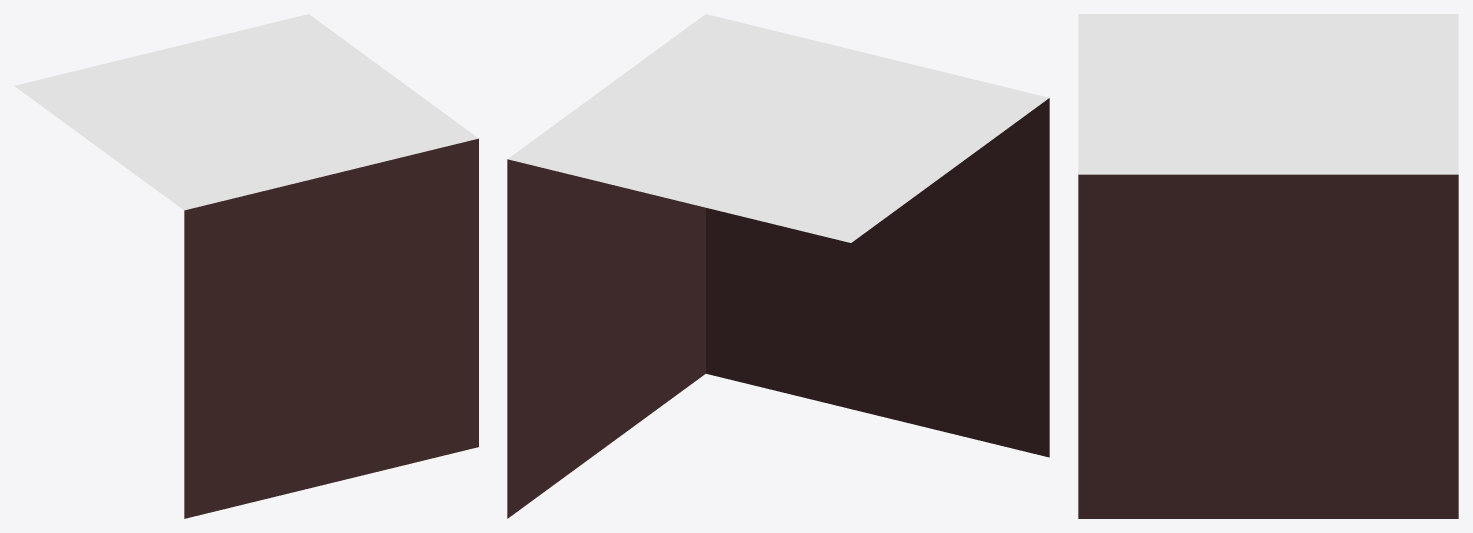
Rendered from terrain_tiles.glb.
3 renders of one model, left to right at view 1: azimuth 30°, elevation 25°; view 2: azimuth 150°, elevation 25°; view 3: azimuth 270°, elevation 25°, orthographic. The views are drawn at different scales.
Visible parts, largest first — view 1: snow; view 2: snow; view 3: snow.
Part boxes in pixels (box(x1,y1,x2,y2)): snow: box(14, 14, 478, 518); snow: box(507, 14, 1049, 518); snow: box(1078, 14, 1458, 518).
Size of the model in its own units: 1 by 1 by 1.
